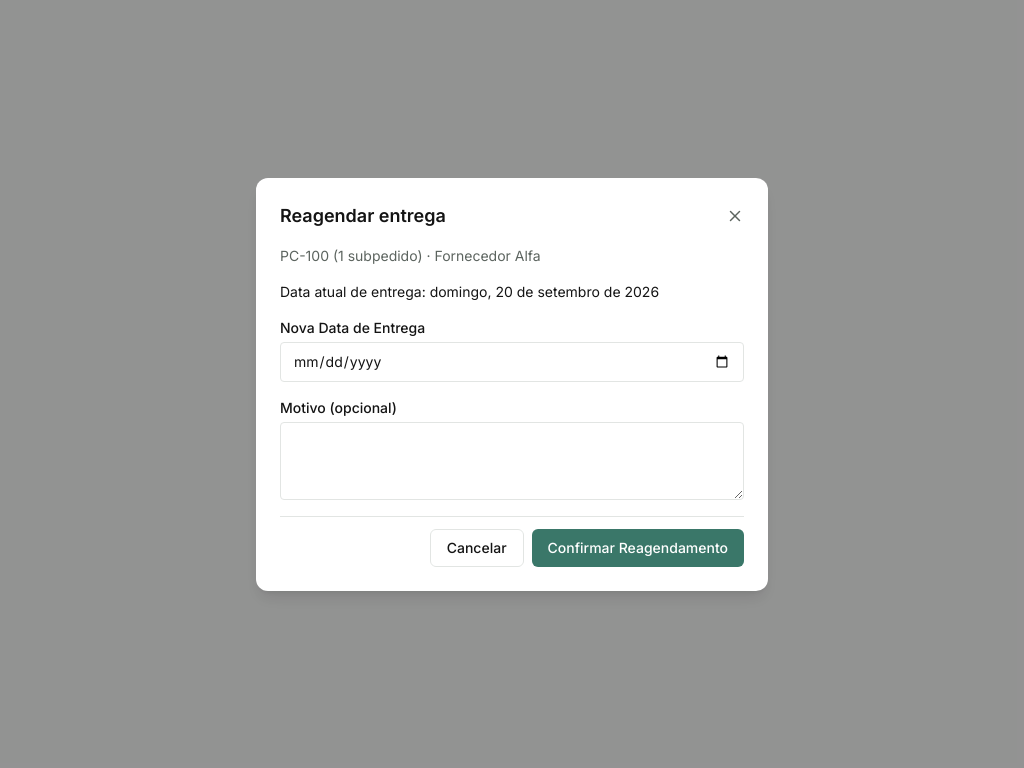
Test: DeliveryRescheduleModal › mostra erro quando a nova data é igual à atual
Type "2026-09-20" into the date field labelled "Nova Data de Entrega" at {"x": 512, "y": 362}, box x1=280 y1=342 x2=744 y2=382
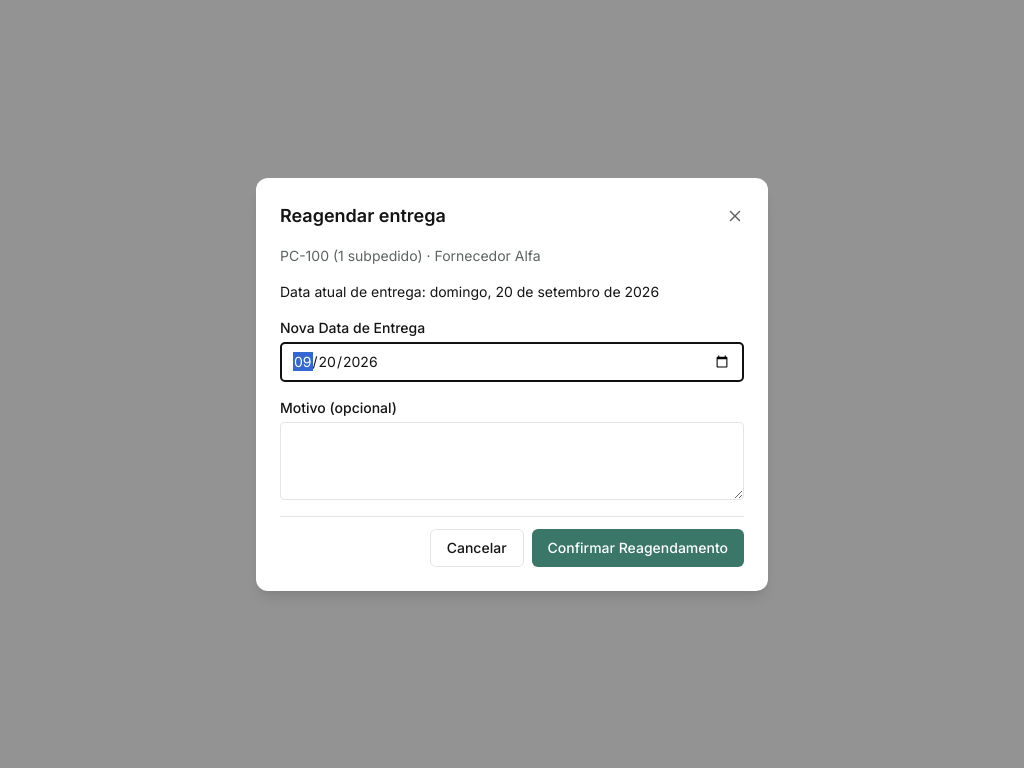
Click the button "Confirmar Reagendamento" at {"x": 638, "y": 548}, box x1=532 y1=528 x2=744 y2=566
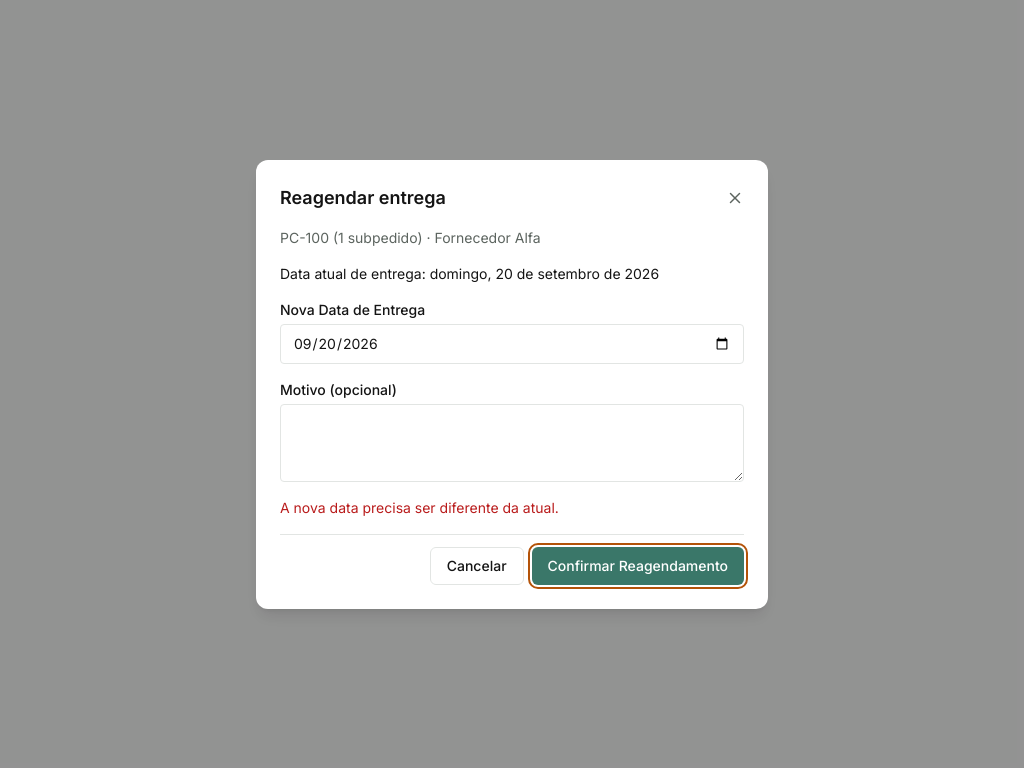
Result: the text "A nova data precisa ser diferente da atual." is shown at x1=280 y1=498 x2=559 y2=516
